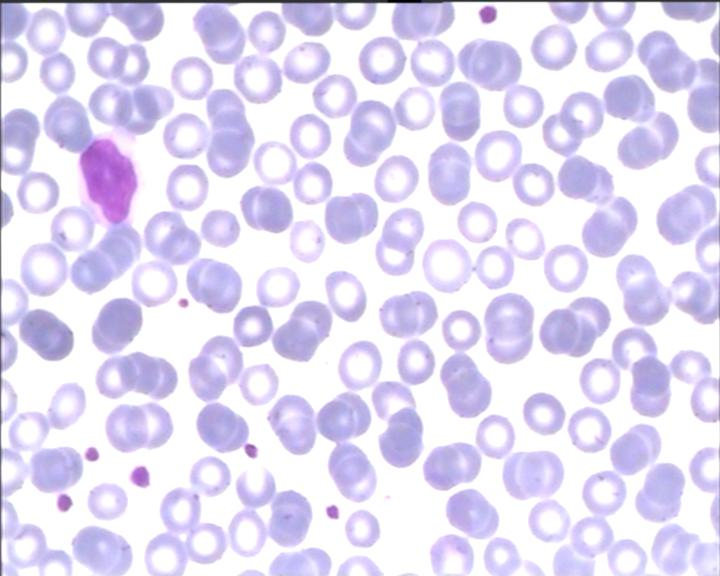mono: (75, 117, 143, 227)
